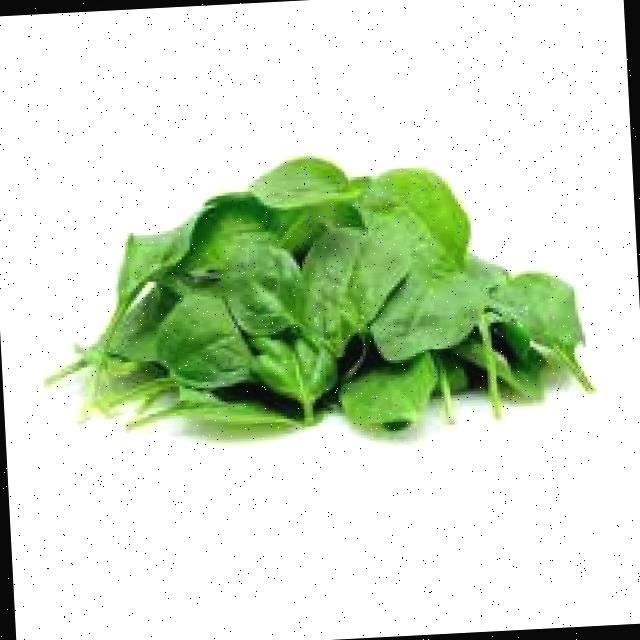spinach: (22, 131, 604, 469)
